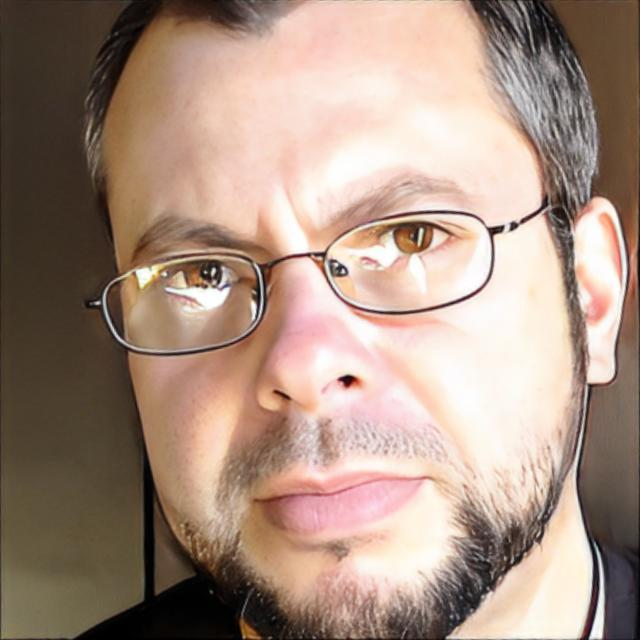anger: (124, 107, 566, 640)
